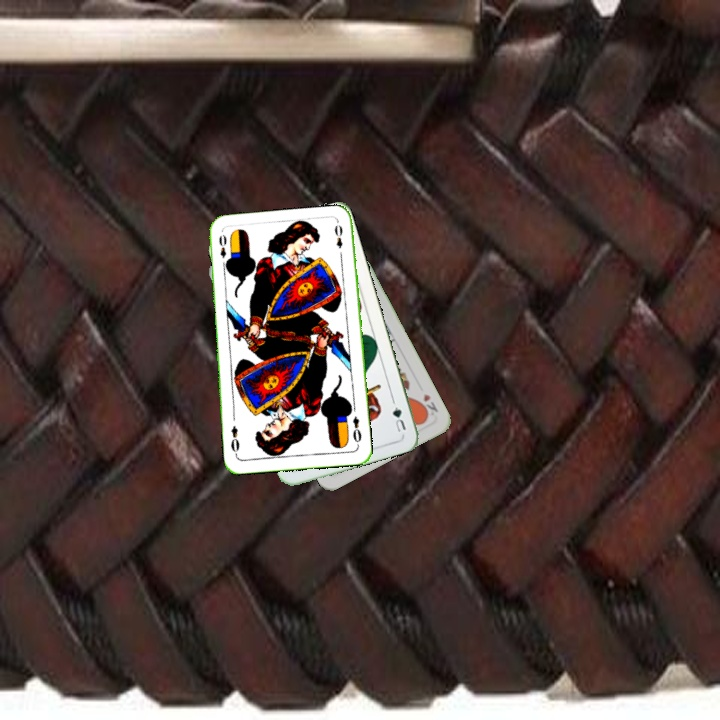EO: (215, 230, 231, 270), (348, 412, 364, 448)
GU: (388, 397, 409, 435)
HK: (415, 389, 441, 420)
